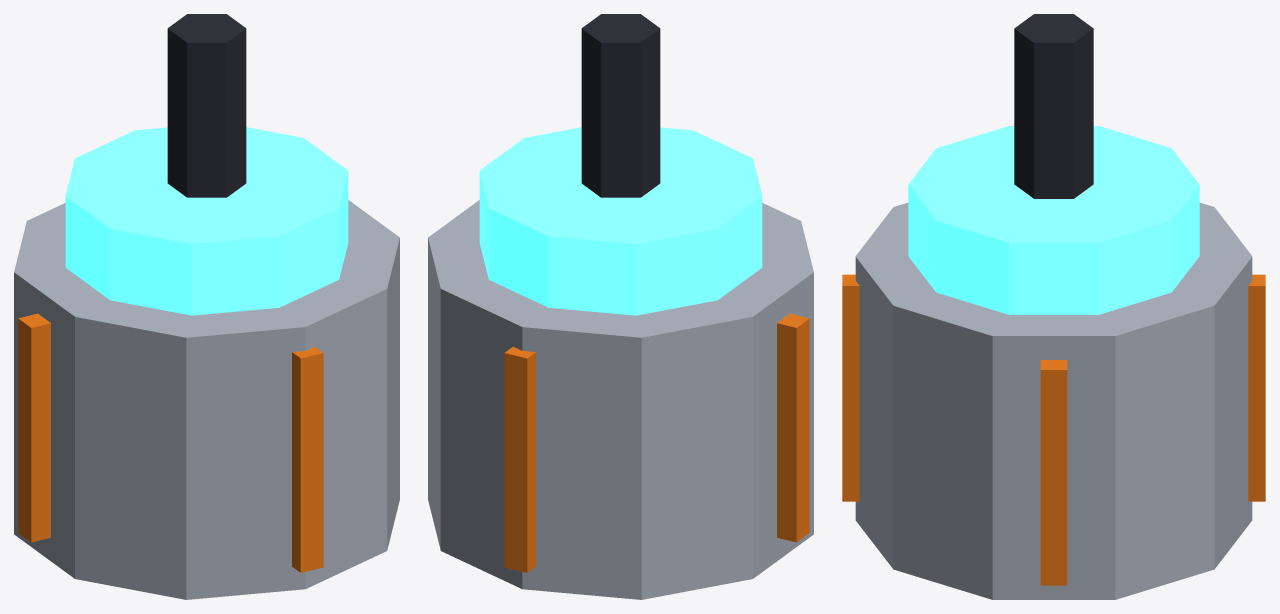
The model's file is lunar-reactor.glb.
3 renders of one model, left to right at view 1: azimuth 30°, elevation 25°; view 2: azimuth 150°, elevation 25°; view 3: azimuth 270°, elevation 25°, orthographic.
Visible parts, largest first — view 1: reactor; view 2: reactor; view 3: reactor.
Boxes of the visible parts, x1=… form: reactor: x1=14, y1=14, x2=399, y2=599; reactor: x1=428, y1=14, x2=813, y2=599; reactor: x1=842, y1=14, x2=1265, y2=599.
Bounding box in the file's own units: 3.2 × 4.1 × 3.2.
